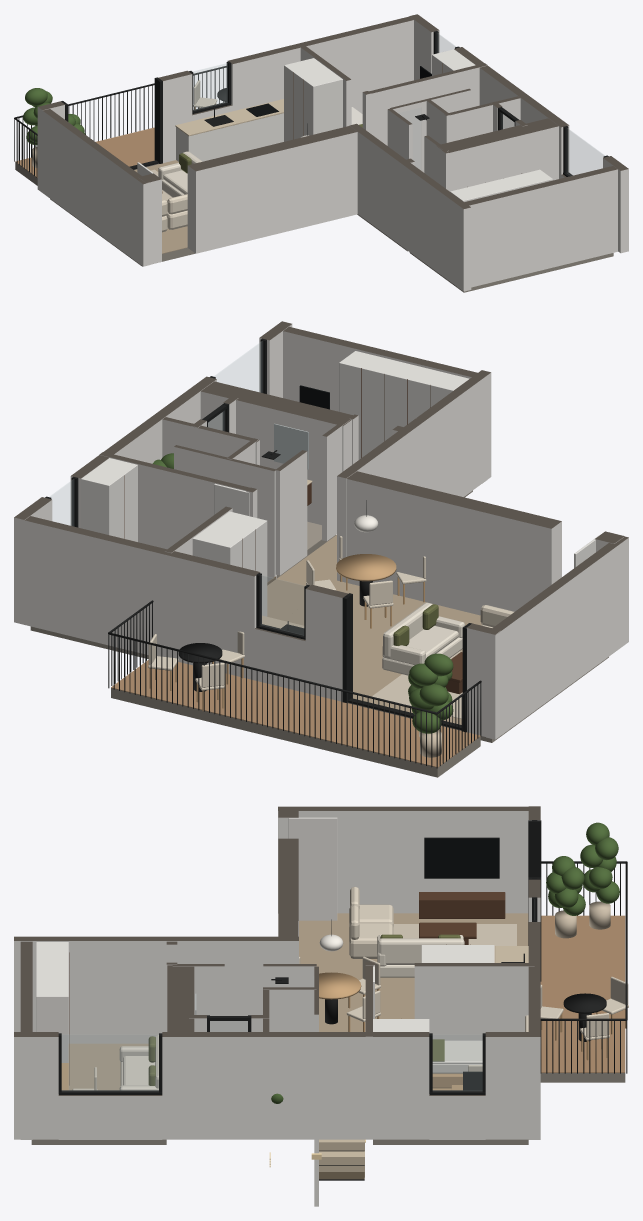
The model's file is apt-3-1.glb.
3 views of the same model, one above another, from view 1: azimuth 30°, elevation 25°; view 2: azimuth 150°, elevation 25°; view 3: azimuth 270°, elevation 25° (orthographic). The views are drawn at different scales.
Visible parts, largest first — view 1: Wall S-living.001, Wall S-mamad, Wall hall-W, Wall W, Wall N-facade.002, Wall bath-S, Kitchen tall units | body, Wall bed1-S, Kitchen run | bases, Wall E.001, Wall N-facade.001, Wall bath-N (+19 smaller); view 2: Wall N-facade.002, Wall S-living.001, Wall W, Floor | balcony, Wall hall-W, Study wardrobe | body, Wall bath-S, Wall bed1-S, Floor | living, Wall S-mamad, Wall N-facade.001, Kids wardrobe | body (+26 smaller); view 3: Wall E.001, Wall hall-W, Wall W, Floor | balcony, Wall bed1-W, Floor | living, Wall E, E window 1 | glazing, Wall E.002, E window 1 | sill wall, S-living door 0 | leaf, Study wardrobe | body (+32 smaller).
Part boxes in pixels (bbox=[...]): Wall S-living.001: bbox=[187, 126, 357, 253]; Wall S-mamad: bbox=[464, 166, 617, 287]; Wall hall-W: bbox=[349, 123, 471, 291]; Wall W: bbox=[37, 107, 150, 266]; Wall N-facade.002: bbox=[227, 16, 413, 113]; Wall bath-S: bbox=[436, 118, 558, 191]; Kitchen tall units | body: bbox=[284, 58, 342, 141]; Wall bed1-S: bbox=[366, 63, 487, 145]; Kitchen run | bases: bbox=[176, 113, 283, 161]; Wall E.001: bbox=[454, 47, 569, 178]; Wall N-facade.001: bbox=[158, 70, 192, 162]; Wall bath-N: bbox=[444, 96, 520, 143]; Wall N-facade.002: bbox=[14, 516, 260, 680]; Wall S-living.001: bbox=[346, 471, 561, 615]; Wall W: bbox=[486, 536, 628, 739]; Floor | balcony: bbox=[111, 660, 480, 767]; Wall hall-W: bbox=[337, 370, 491, 582]; Study wardrobe | body: bbox=[339, 351, 468, 459]; Wall bath-S: bbox=[200, 381, 352, 524]; Wall bed1-S: bbox=[99, 452, 249, 549]; Floor | living: bbox=[282, 580, 481, 724]; Wall S-mamad: bbox=[283, 326, 486, 483]; Wall N-facade.001: bbox=[305, 584, 347, 701]; Kids wardrobe | body: bbox=[81, 458, 137, 541]; Wall E.001: bbox=[162, 1032, 429, 1139]; Wall hall-W: bbox=[14, 936, 298, 1043]; Wall W: bbox=[278, 806, 528, 913]; Floor | balcony: bbox=[540, 915, 625, 1072]; Wall bed1-W: bbox=[414, 963, 534, 1040]; Floor | living: bbox=[299, 913, 528, 1031]; Wall E: bbox=[485, 1032, 540, 1139]; E window 1 | glazing: bbox=[62, 1035, 158, 1090]; Wall E.002: bbox=[14, 1032, 58, 1139]; E window 1 | sill wall: bbox=[58, 1094, 162, 1139]; S-living door 0 | leaf: bbox=[288, 817, 337, 920]; Study wardrobe | body: bbox=[36, 942, 68, 1062].
Bounding box in the file's own units: 10.17 × 3.95 × 11.4.
